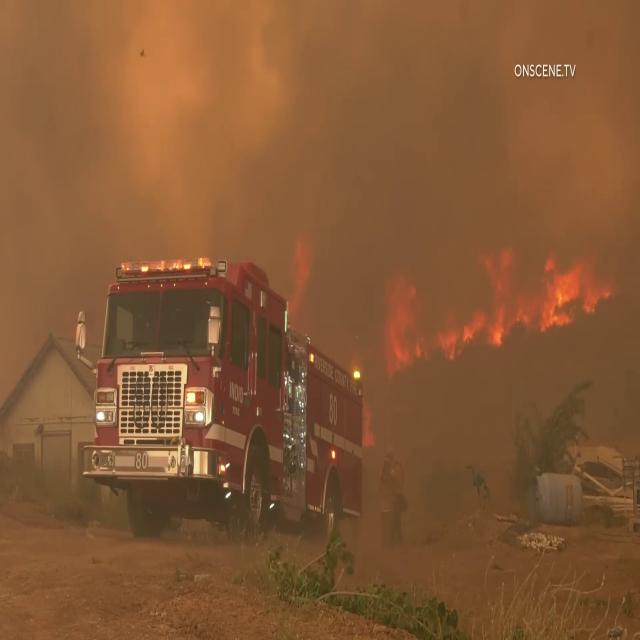fire: (527, 234, 615, 352)
smoke: (238, 3, 396, 199), (428, 108, 542, 212)
